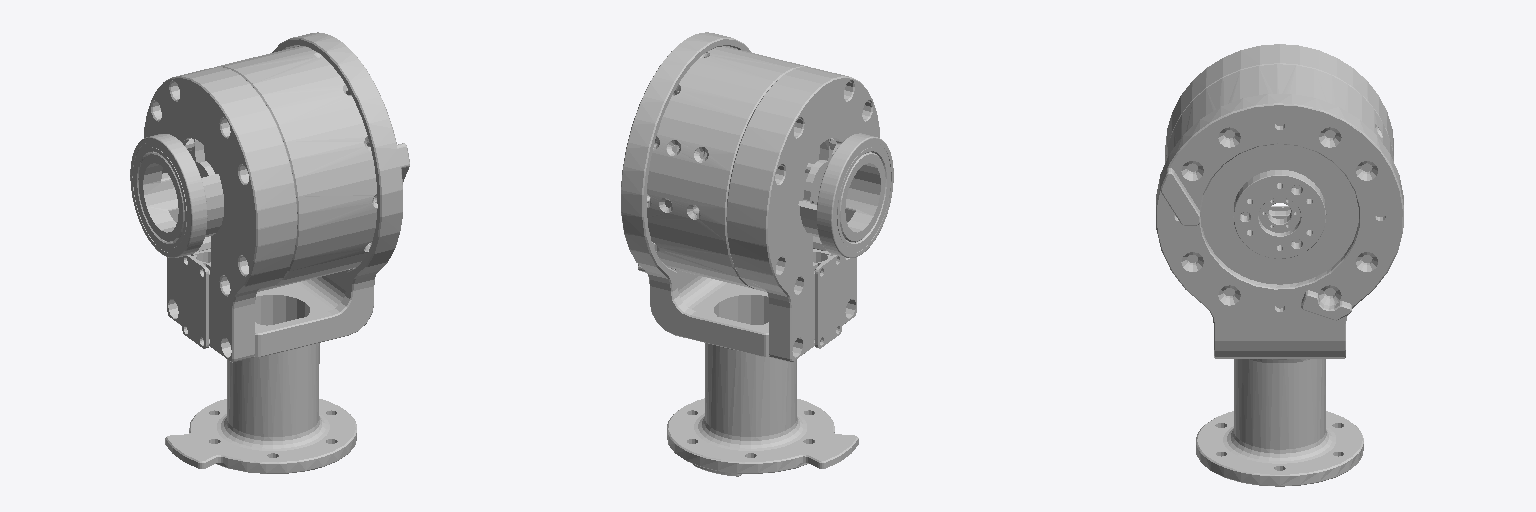
File: l_arm_pitch.obj
3 views of the same model, side by side, from view 1: azimuth 30°, elevation 25°; view 2: azimuth 150°, elevation 25°; view 3: azimuth 270°, elevation 25° (orthographic).
Parts seen in each view (by area): view 1: obj1; view 2: obj1; view 3: obj1.
Part boxes in pixels (x1,y1,x2,y2): obj1: (130,32,409,473); obj1: (621,32,893,476); obj1: (1156,44,1403,486).
Size of the model in its own units: 0.083 by 0.1618 by 0.0938.